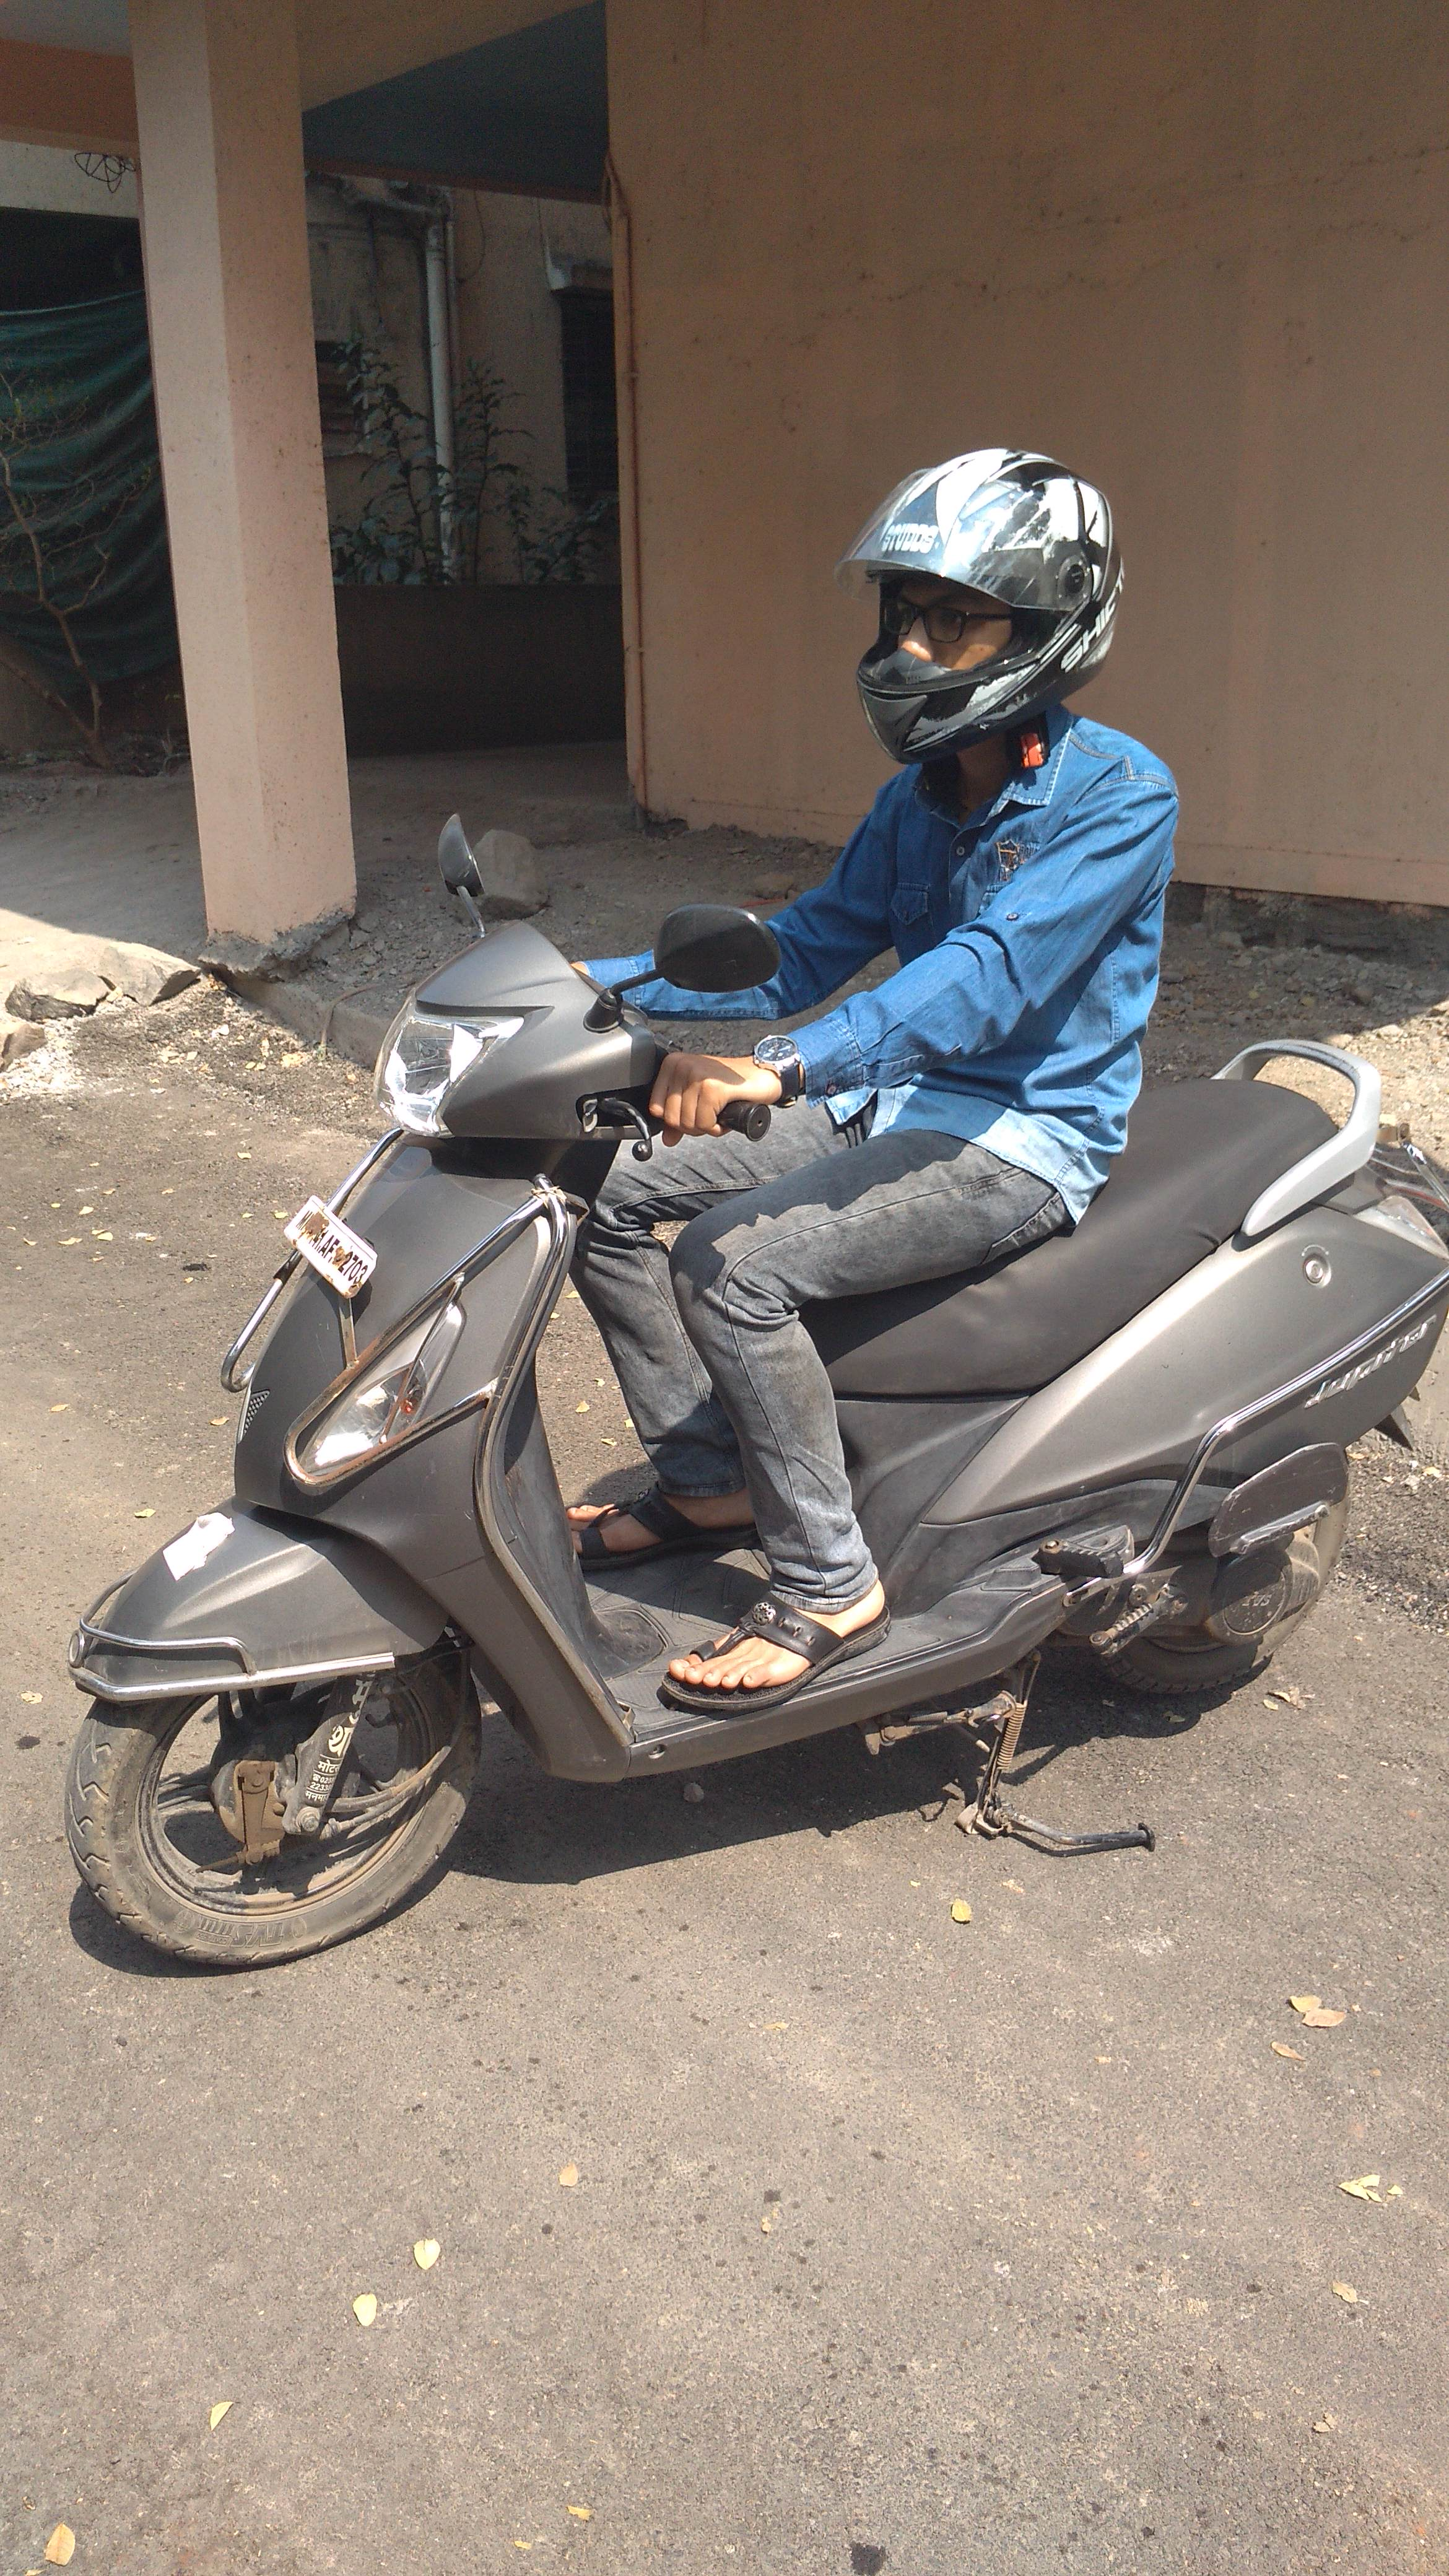helmet: (587, 396, 1191, 1693)
